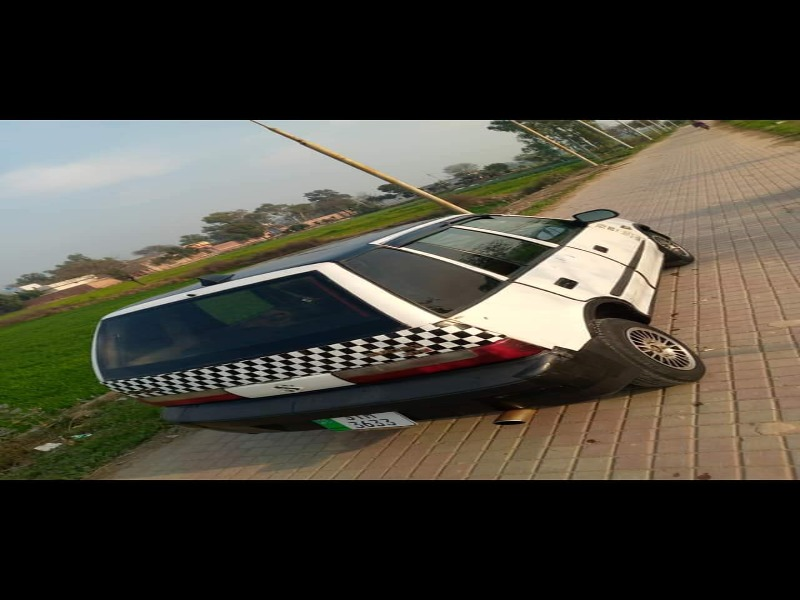License Plate: (313, 408, 419, 437)
